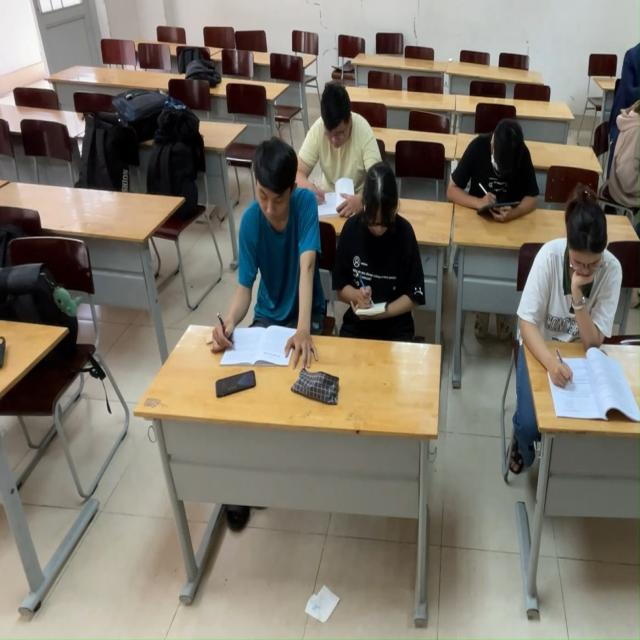read: (213, 124, 333, 377), (524, 192, 635, 434), (326, 151, 437, 364), (454, 109, 545, 236), (304, 74, 363, 207)
